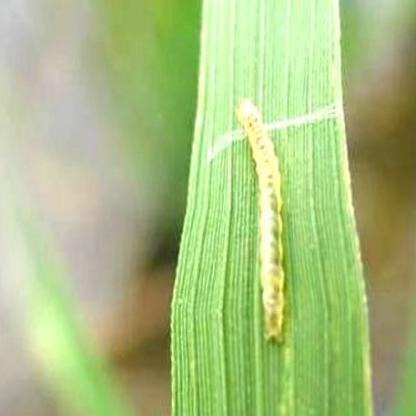leaf-folder: (227, 87, 297, 346)
